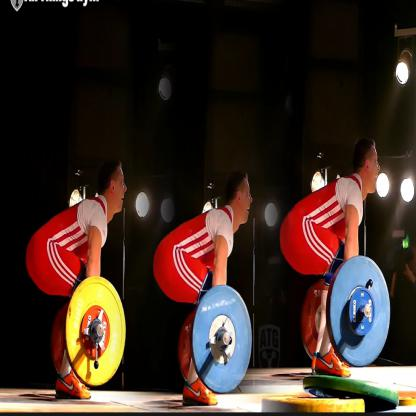Barbell: (62, 266, 132, 392), (326, 247, 394, 370), (191, 274, 256, 402)
